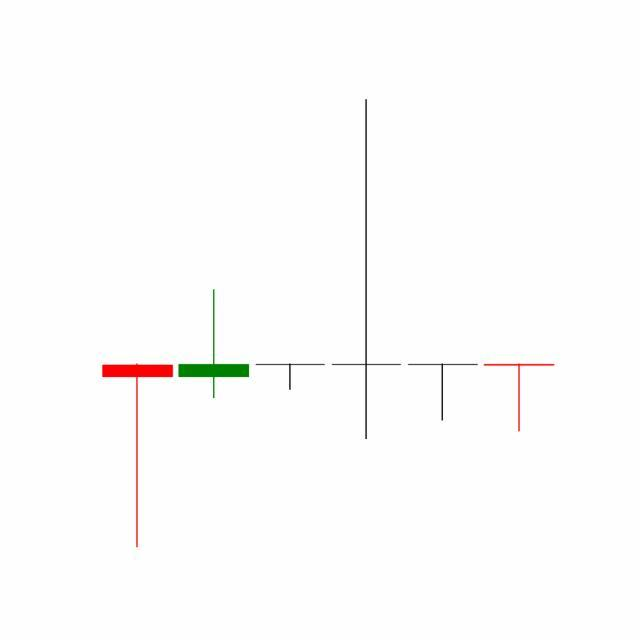Dragonfly Doji: (404, 363, 482, 422)
